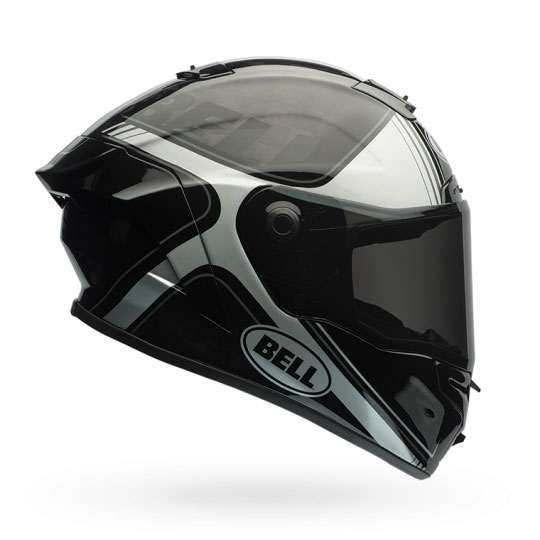with_helmet: (34, 37, 488, 485)
